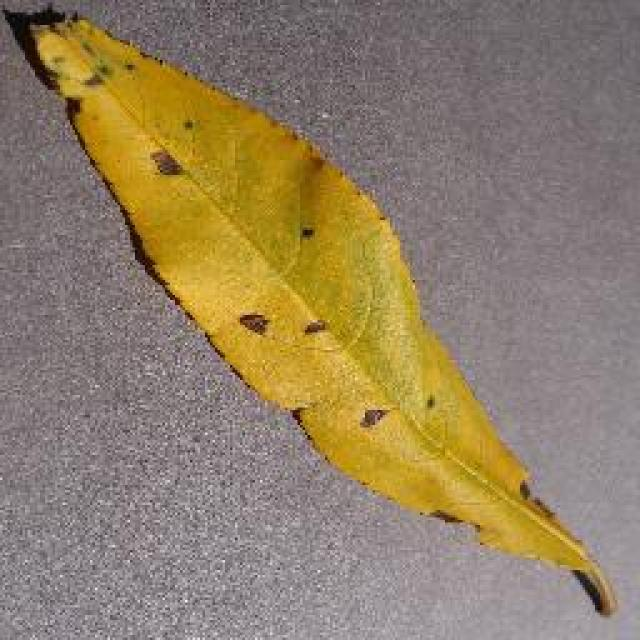Peach_Bacterial_Spot: (33, 15, 455, 435)
